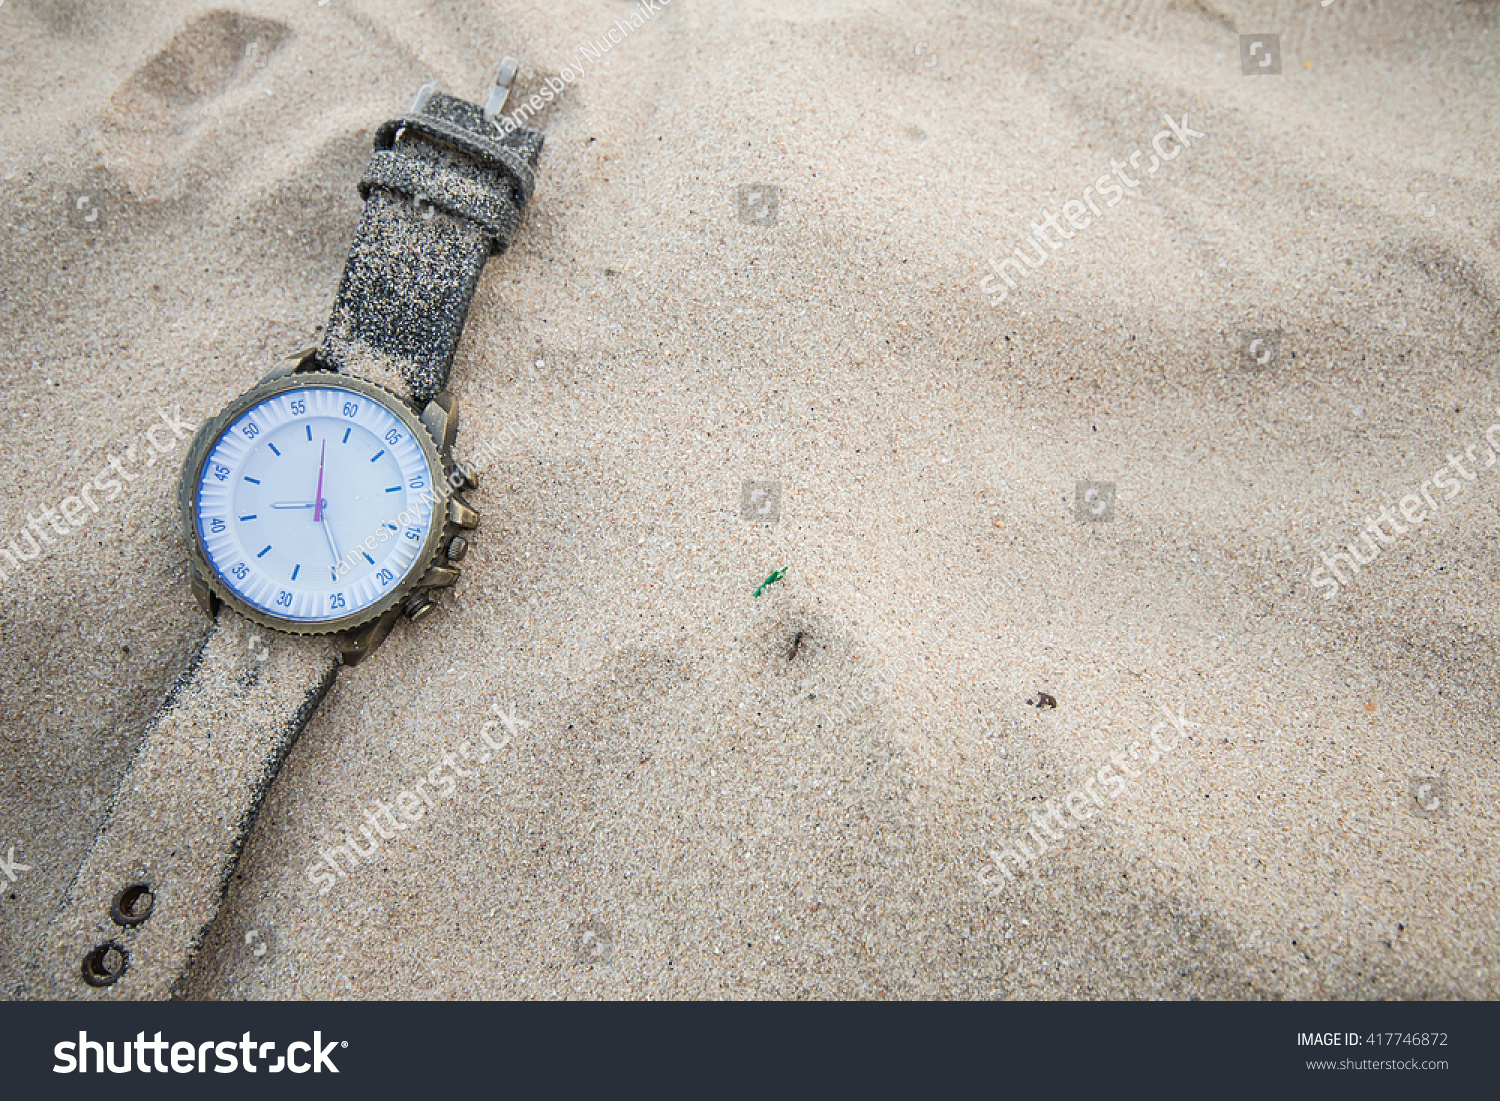clock: (178, 370, 451, 638)
